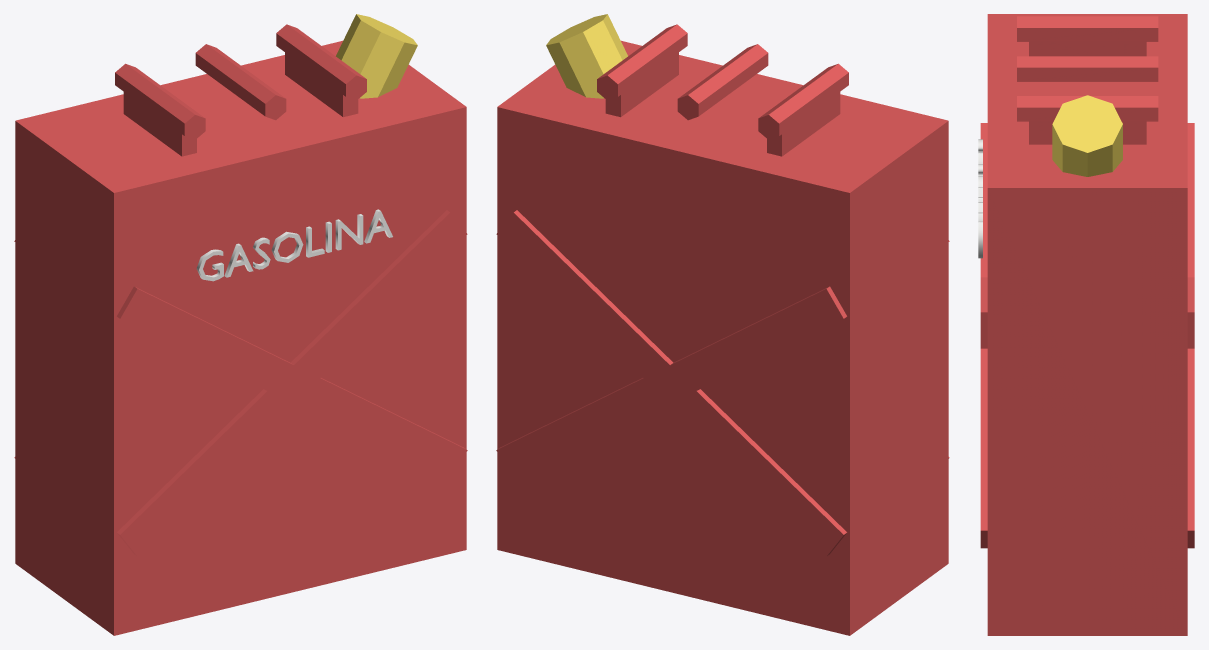
Rendered from CR_Bidon.fbx.
3 views of the same model, side by side, from view 1: azimuth 30°, elevation 25°; view 2: azimuth 150°, elevation 25°; view 3: azimuth 270°, elevation 25° (orthographic).
Parts seen in each view (by area): view 1: CR_Bidon; view 2: CR_Bidon; view 3: CR_Bidon.
Part boxes in pixels (x1,y1,x2,y2): CR_Bidon: (14, 14, 467, 635); CR_Bidon: (496, 14, 949, 635); CR_Bidon: (978, 14, 1194, 635).
Size of the model in its own units: 0.35 by 0.481 by 0.184.
